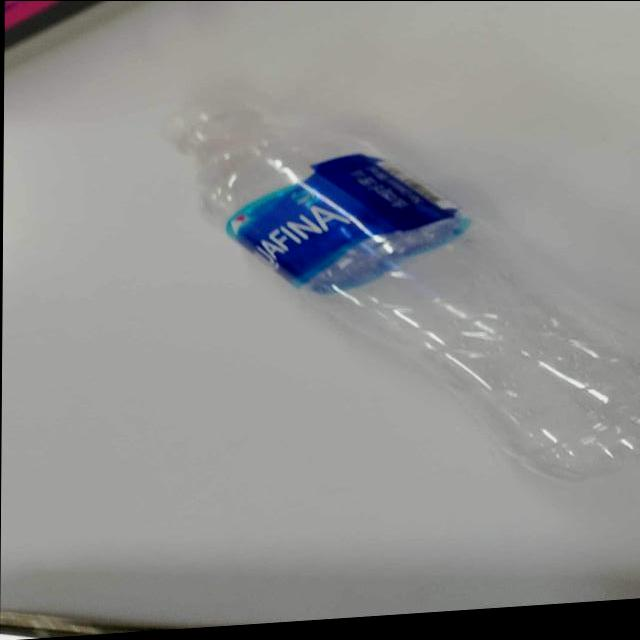General: (1, 1, 639, 640), (222, 149, 472, 298)
Sharps: (161, 99, 639, 483)
